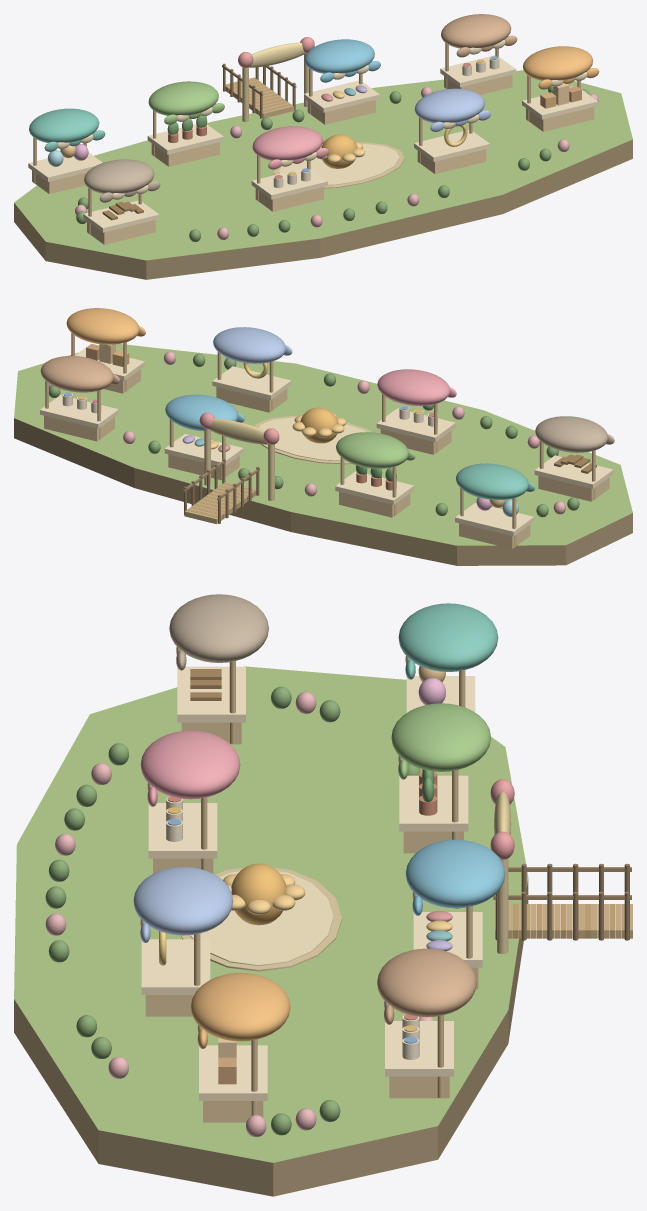
Rendered from friendship-fair.glb.
3 renders of one model, top to bottom at view 1: azimuth 30°, elevation 25°; view 2: azimuth 150°, elevation 25°; view 3: azimuth 270°, elevation 25°, orthographic. The views are drawn at different scales.
Visible parts, largest first — view 1: friendship-fair, fair-little-garden, fair-parcel-trail, fair-cloud-hop, fair-bridge-builder, fair-colour-studio, fair-echo-pond, fair-bubble-meadow, fair-tea-time; view 2: friendship-fair, fair-bubble-meadow, fair-little-garden, fair-bridge-builder, fair-cloud-hop, fair-tea-time, fair-colour-studio, fair-echo-pond, fair-parcel-trail; view 3: friendship-fair, fair-tea-time, fair-parcel-trail, fair-little-garden, fair-cloud-hop, fair-bridge-builder, fair-colour-studio, fair-echo-pond, fair-bubble-meadow.
Boxes of the visible parts, left/top/right/bottom form: friendship-fair: left=14, top=37, right=632, bottom=279; fair-little-garden: left=147, top=81, right=224, bottom=166; fair-parcel-trail: left=522, top=46, right=599, bottom=131; fair-cloud-hop: left=414, top=88, right=490, bottom=174; fair-bridge-builder: left=83, top=159, right=160, bottom=244; fair-colour-studio: left=251, top=126, right=328, bottom=211; fair-echo-pond: left=304, top=39, right=380, bottom=124; fair-bubble-meadow: left=28, top=108, right=105, bottom=193; fair-tea-time: left=440, top=14, right=517, bottom=94; friendship-fair: left=14, top=344, right=632, bottom=565; fair-bubble-meadow: left=455, top=463, right=534, bottom=548; fair-little-garden: left=335, top=432, right=415, bottom=517; fair-bridge-builder: left=534, top=416, right=614, bottom=501; fair-cloud-hop: left=212, top=327, right=292, bottom=412; fair-tea-time: left=40, top=356, right=119, bottom=441; fair-colour-studio: left=376, top=369, right=456, bottom=454; fair-echo-pond: left=164, top=394, right=244, bottom=480; fair-parcel-trail: left=66, top=308, right=145, bottom=393; friendship-fair: left=14, top=666, right=632, bottom=1196; fair-tea-time: left=377, top=948, right=476, bottom=1098; fair-parcel-trail: left=191, top=972, right=290, bottom=1122; fair-little-garden: left=391, top=703, right=490, bottom=853; fair-cloud-hop: left=133, top=866, right=233, bottom=1016; fair-bridge-builder: left=169, top=594, right=268, bottom=744; fair-colour-studio: left=140, top=730, right=240, bottom=873; fair-echo-pond: left=405, top=839, right=505, bottom=989; fair-bubble-meadow: left=398, top=603, right=498, bottom=712.
Bounding box in the file's own units: 20.5 × 2.94 × 10.8.
